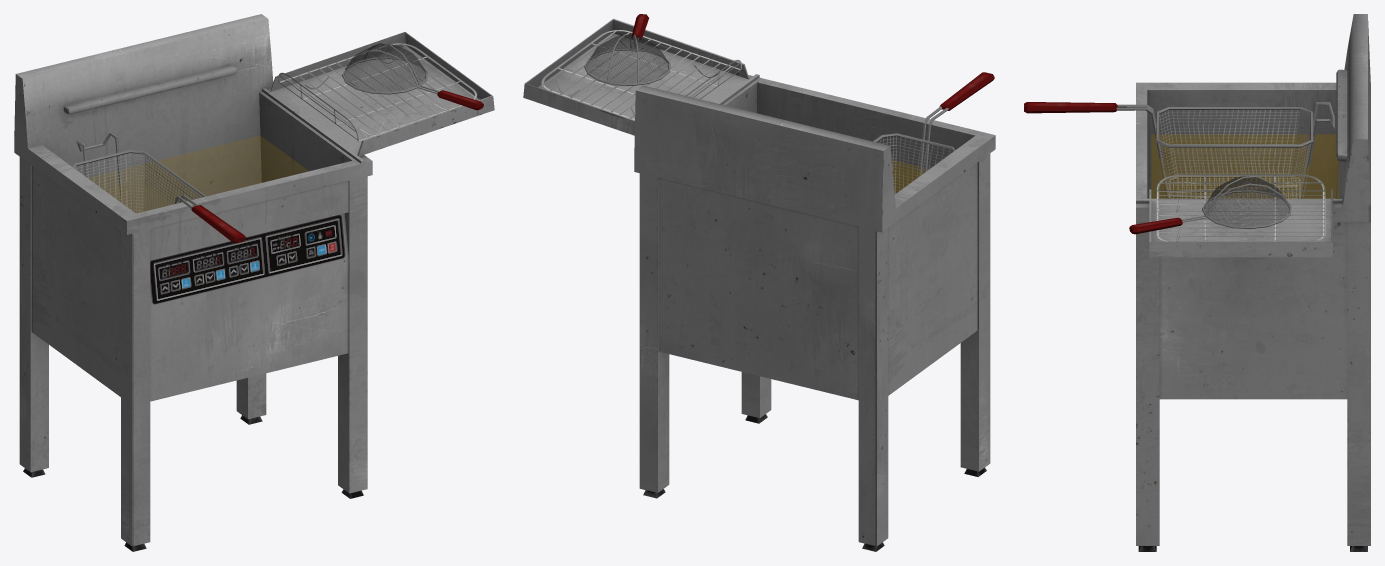
3 renders of one model, left to right at view 1: azimuth 30°, elevation 25°; view 2: azimuth 150°, elevation 25°; view 3: azimuth 270°, elevation 25°, orthographic. The views are drawn at different scales.
Parts seen in each view (by area): view 1: Frier_MD_Frier_0, Frier_oil_frier_oil_0, Frier_Mesh_MD__0, FB_s_Mesh_FB_S_Mesh_0, FB_Mesh_FB_mesh_0, Fry_Basket_MD_Fry_Basket_0, Fry_Basket_S_MD_Fry_Basket_S_0; view 2: Frier_MD_Frier_0, FB_s_Mesh_FB_S_Mesh_0, Frier_Mesh_MD__0, Fry_Basket_MD_Fry_Basket_0, Fry_Basket_S_MD_Fry_Basket_S_0, FB_Mesh_FB_mesh_0, Frier_oil_frier_oil_0; view 3: Frier_MD_Frier_0, Frier_oil_frier_oil_0, FB_Mesh_FB_mesh_0, Fry_Basket_MD_Fry_Basket_0, Frier_Mesh_MD__0, FB_s_Mesh_FB_S_Mesh_0, Fry_Basket_S_MD_Fry_Basket_S_0.
Boxes of the visible parts, x1=… form: Frier_MD_Frier_0: x1=14, y1=14, x2=494, y2=551; Frier_oil_frier_oil_0: x1=89, y1=136, x2=307, y2=212; Frier_Mesh_MD__0: x1=278, y1=43, x2=476, y2=141; FB_s_Mesh_FB_S_Mesh_0: x1=344, y1=43, x2=425, y2=92; FB_Mesh_FB_mesh_0: x1=75, y1=153, x2=201, y2=213; Fry_Basket_MD_Fry_Basket_0: x1=72, y1=132, x2=245, y2=243; Fry_Basket_S_MD_Fry_Basket_S_0: x1=342, y1=42, x2=483, y2=110; Frier_MD_Frier_0: x1=523, y1=18, x2=995, y2=551; FB_s_Mesh_FB_S_Mesh_0: x1=586, y1=35, x2=668, y2=83; Frier_Mesh_MD__0: x1=541, y1=30, x2=741, y2=120; Fry_Basket_MD_Fry_Basket_0: x1=873, y1=72, x2=994, y2=176; Fry_Basket_S_MD_Fry_Basket_S_0: x1=584, y1=14, x2=670, y2=85; FB_Mesh_FB_mesh_0: x1=878, y1=136, x2=952, y2=193; Frier_oil_frier_oil_0: x1=892, y1=160, x2=928, y2=193; Frier_MD_Frier_0: x1=1136, y1=14, x2=1370, y2=551; Frier_oil_frier_oil_0: x1=1151, y1=134, x2=1339, y2=198; FB_Mesh_FB_mesh_0: x1=1158, y1=110, x2=1311, y2=198; Fry_Basket_MD_Fry_Basket_0: x1=1024, y1=102, x2=1334, y2=198; Frier_Mesh_MD__0: x1=1156, y1=174, x2=1325, y2=241; FB_s_Mesh_FB_S_Mesh_0: x1=1204, y1=176, x2=1289, y2=226; Fry_Basket_S_MD_Fry_Basket_S_0: x1=1129, y1=176, x2=1291, y2=234.
Bounding box in the file's own units: 0.8081 × 0.8247 × 0.6219.
7 materials, 7 textured.
